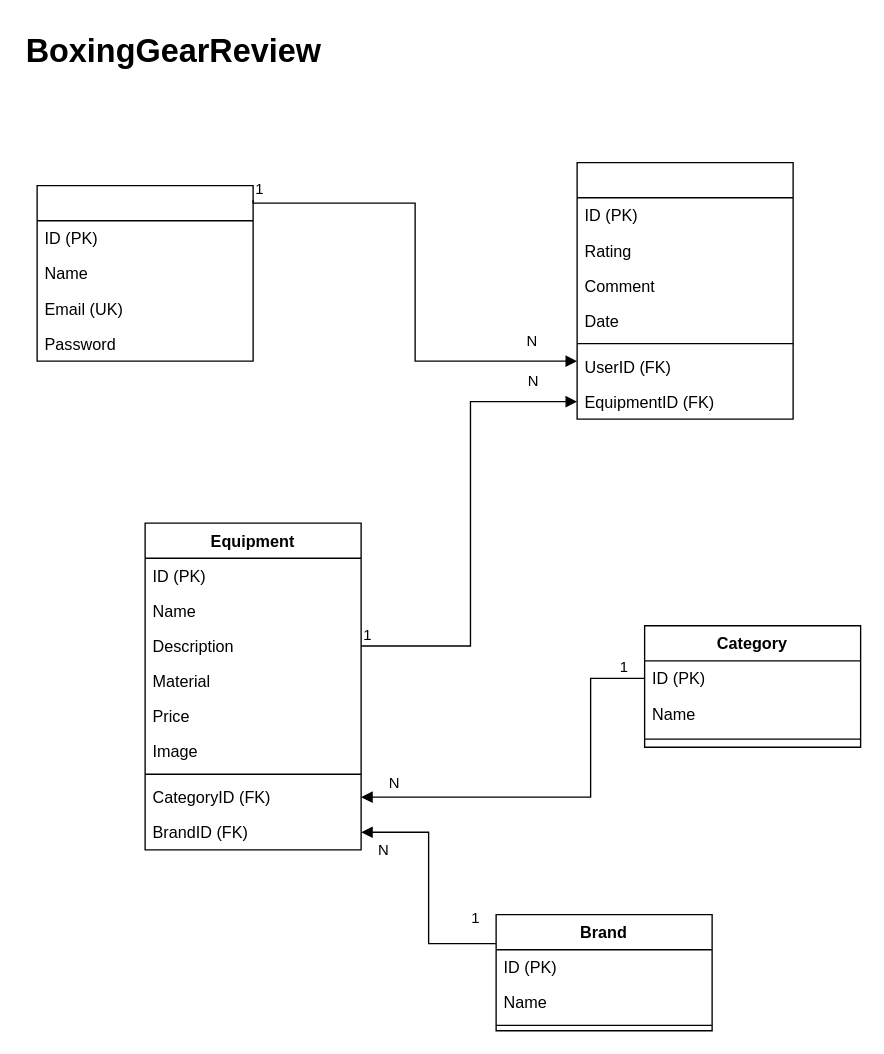
Image size: 884x1054. Some labels were removed from this diagram. The box of each missing label's shape, as (x1, y1, x2, y2) in pixels:
Review: (576, 161, 793, 419)
User: (36, 184, 253, 361)
